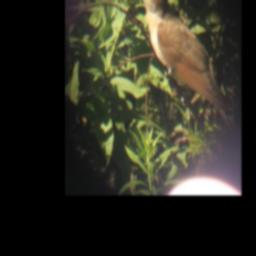Cuckoo: (130, 0, 238, 137)
